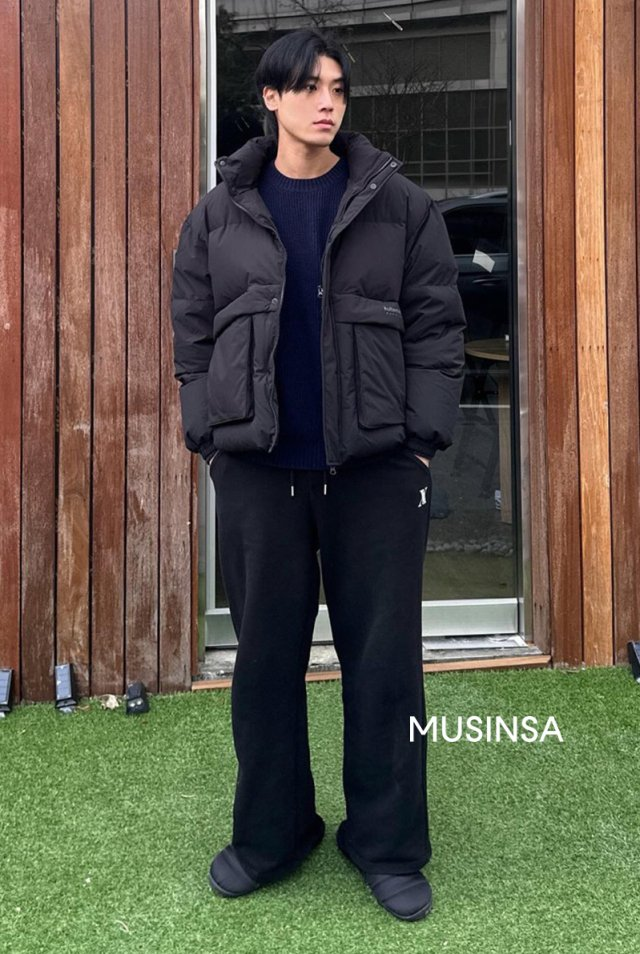Bubble jacket: (153, 123, 464, 463)
Shoes: (206, 827, 442, 921)
Training pants: (207, 453, 440, 878)
